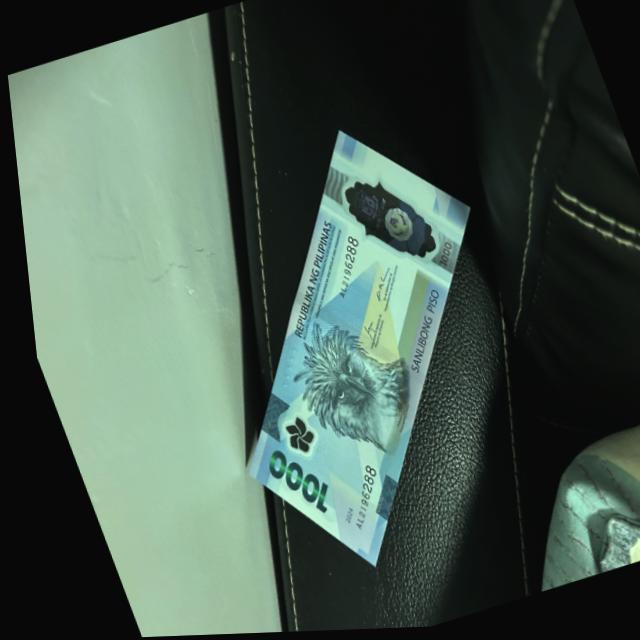clear_window: (331, 167, 441, 281)
eagle: (267, 315, 419, 458)
sampaguita: (271, 418, 307, 460)
